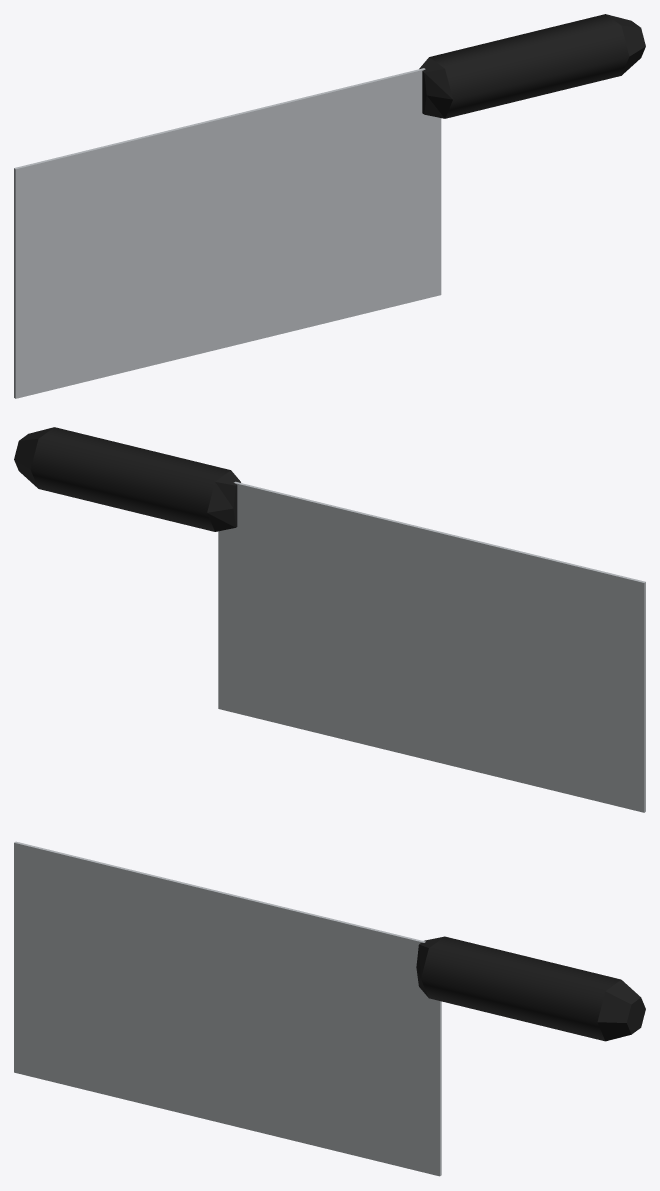
File: SM_kitchenknife_01.fbx
The picture shows the model from 3 angles, top to bottom: view 1: azimuth 30°, elevation 25°; view 2: azimuth 150°, elevation 25°; view 3: azimuth 330°, elevation 25°; orthographic projection.
Visible parts, largest first — view 1: Cylinder048; view 2: Cylinder048; view 3: Cylinder048.
Boxes of the visible parts, x1,y1,x2,y2 form: Cylinder048: [14, 14, 645, 398]; Cylinder048: [14, 427, 645, 812]; Cylinder048: [14, 841, 645, 1176].
Size of the model in its own units: 22.21 by 1.98 by 7.95.
